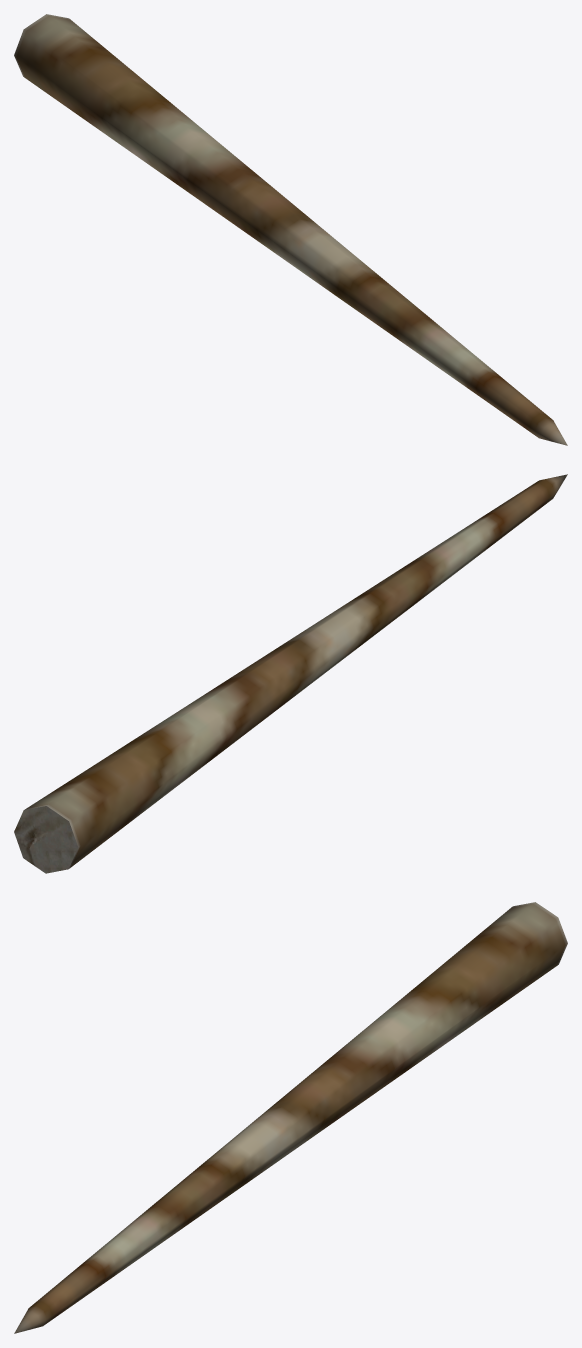
The model's file is Mg_corn.glb.
3 views of the same model, one above another, from view 1: azimuth 30°, elevation 25°; view 2: azimuth 150°, elevation 25°; view 3: azimuth 330°, elevation 25° (orthographic).
Visible parts, largest first — view 1: Mg_corn-col; view 2: Mg_corn-col; view 3: Mg_corn-col.
Part boxes in pixels (x1=…): Mg_corn-col: x1=14, y1=14, x2=567, y2=445; Mg_corn-col: x1=14, y1=474, x2=567, y2=873; Mg_corn-col: x1=14, y1=902, x2=567, y2=1333.
Bounding box in the file's own units: 0.0794 × 0.0794 × 1.12.
Materials: 1 (1 with a texture image).
